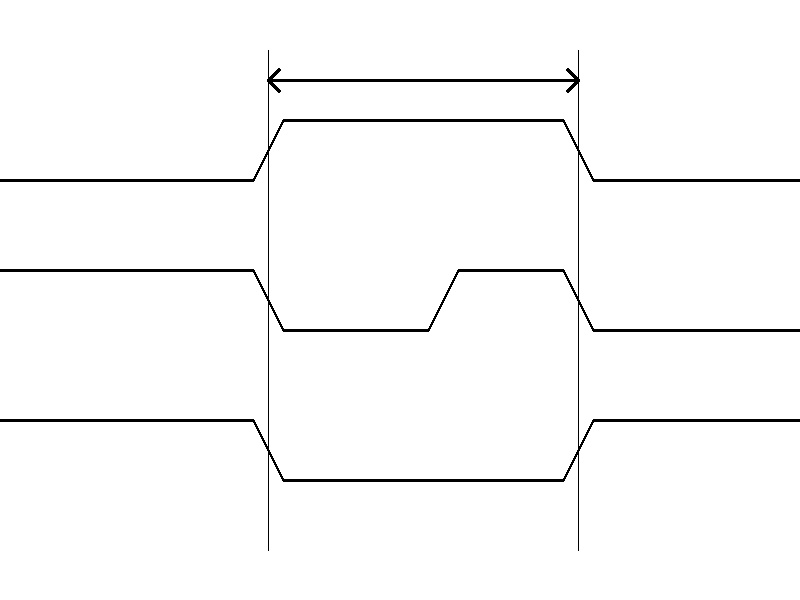double_arrow: (268, 65, 578, 95)
